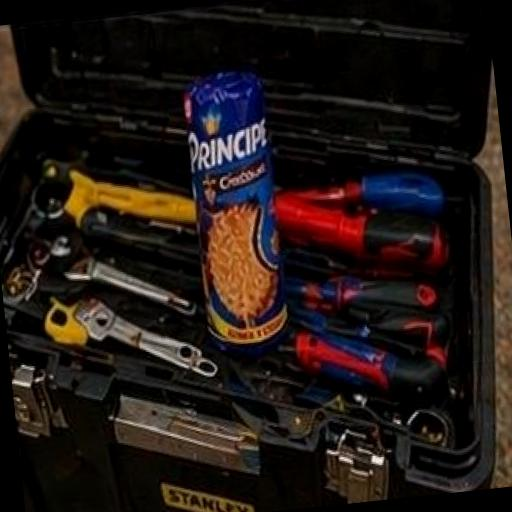prince: (124, 28, 376, 430)
